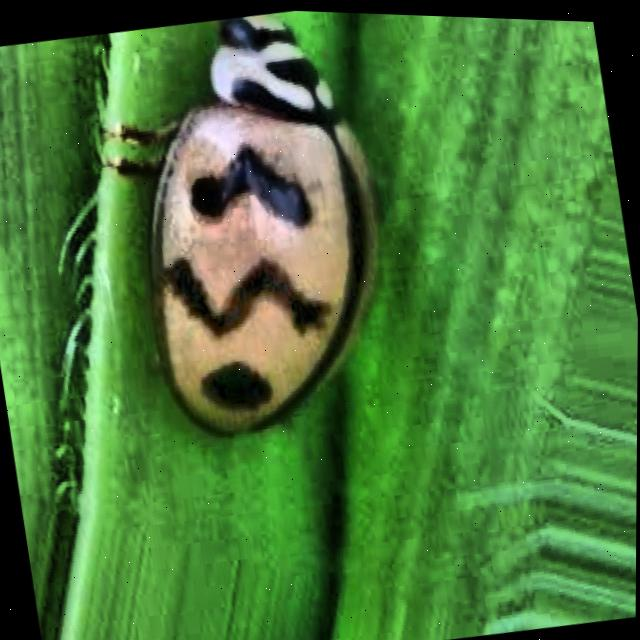Asian-Lady-beetle: (0, 0, 511, 621)
